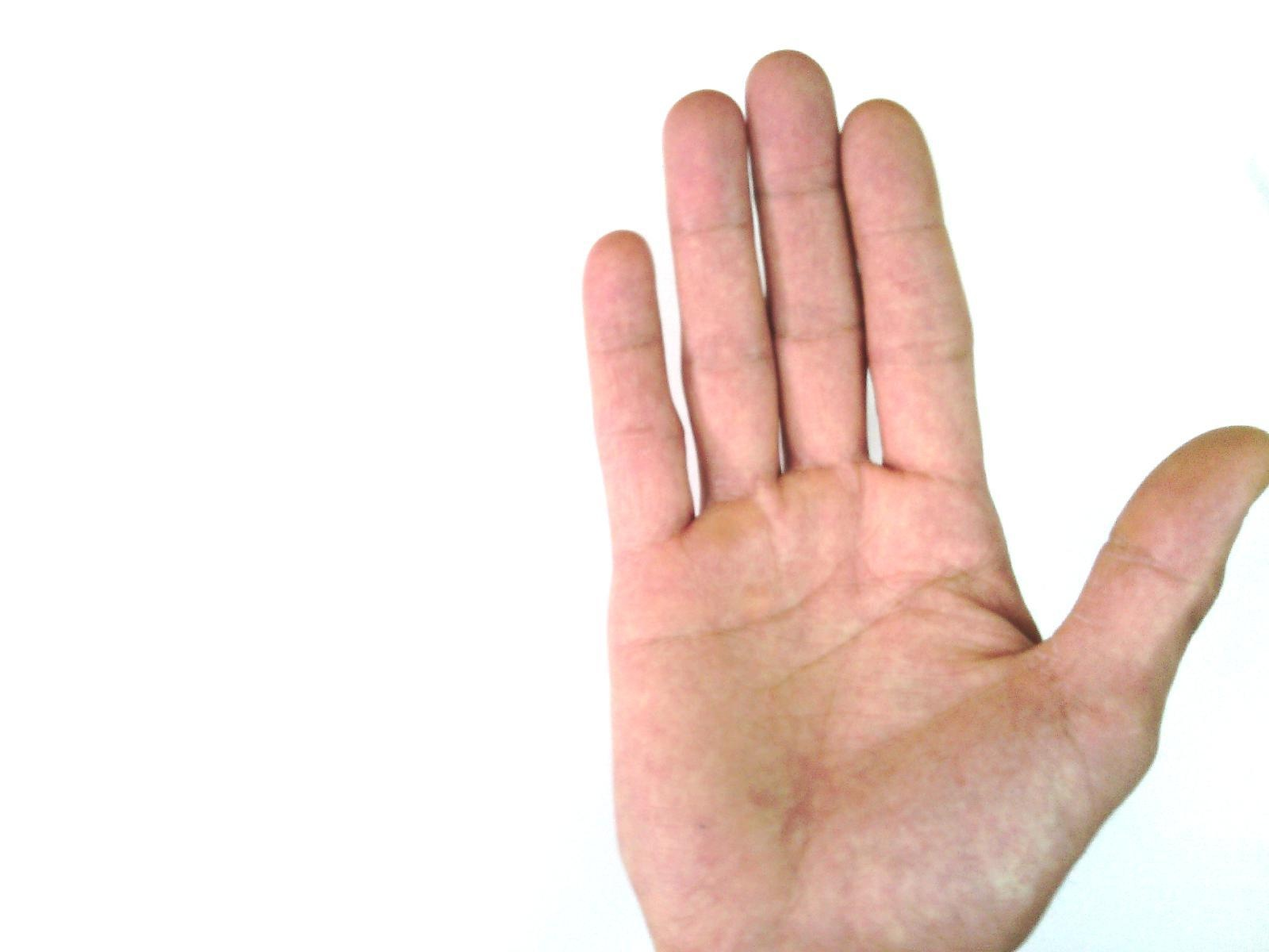open_palm: (577, 48, 1267, 950)
